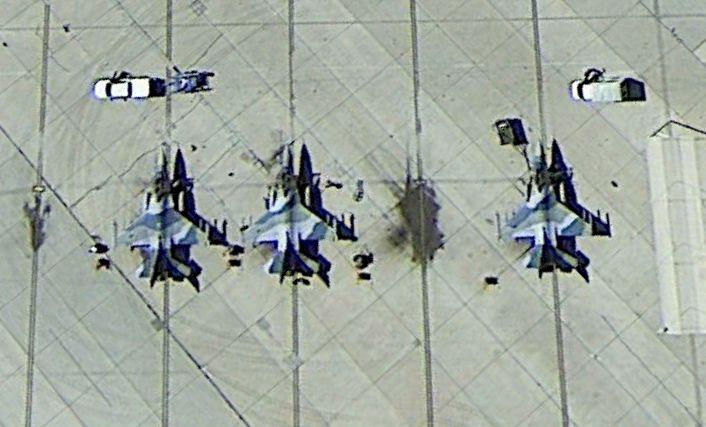F-16: (240, 145, 343, 279), (501, 135, 599, 275), (117, 151, 208, 280)
